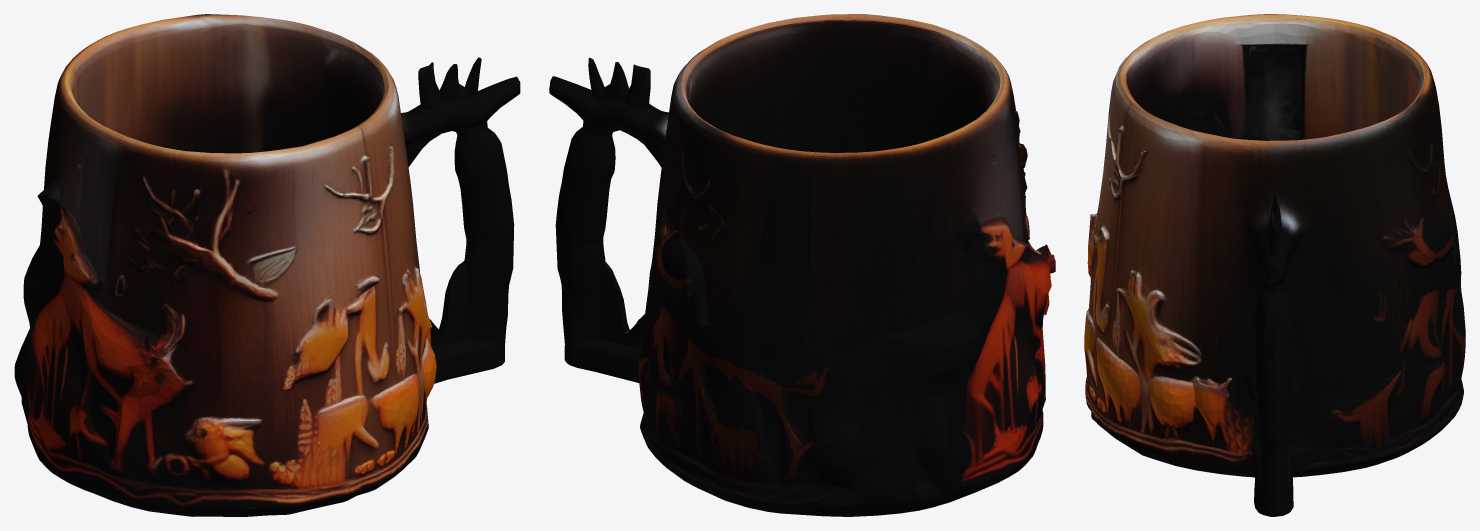
Rendered from wooden-camping-mug-rustic.jpeg.glb.
3 views of the same model, side by side, from view 1: azimuth 30°, elevation 25°; view 2: azimuth 150°, elevation 25°; view 3: azimuth 270°, elevation 25° (orthographic). The views are drawn at different scales.
Visible parts, largest first — view 1: world; view 2: world; view 3: world.
Part boxes in pixels (bbox=[...]): world: bbox=[14, 14, 520, 516]; world: bbox=[549, 14, 1055, 516]; world: bbox=[1084, 14, 1465, 516].
Size of the model in its own units: 0.9975 by 0.7285 by 0.7592.
Materials: 1 (1 with a texture image).
